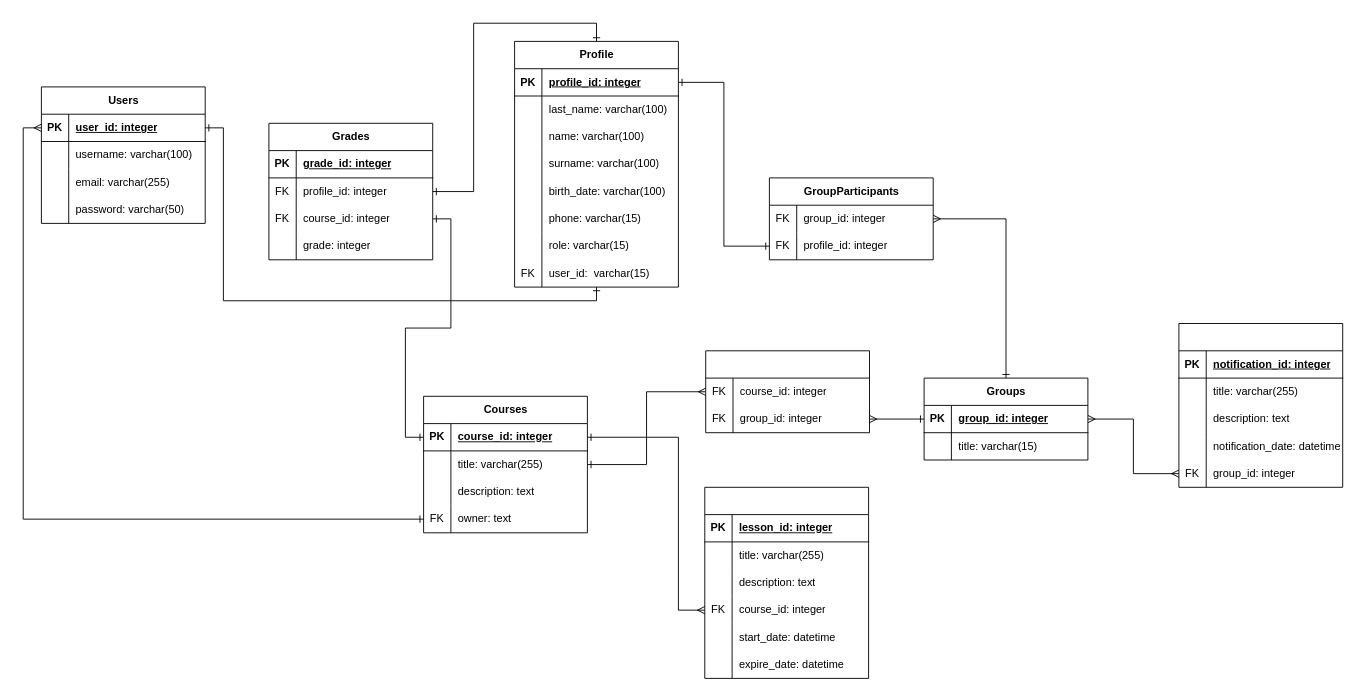
This 1359x694 diagram has some shape labels left out. The box of each missing label's shape, as (x1, y1, x2, y2) in pixels:
CourseParticipants: (705, 350, 870, 433)
Lessons: (704, 486, 869, 678)
Notifications: (1178, 323, 1343, 487)
